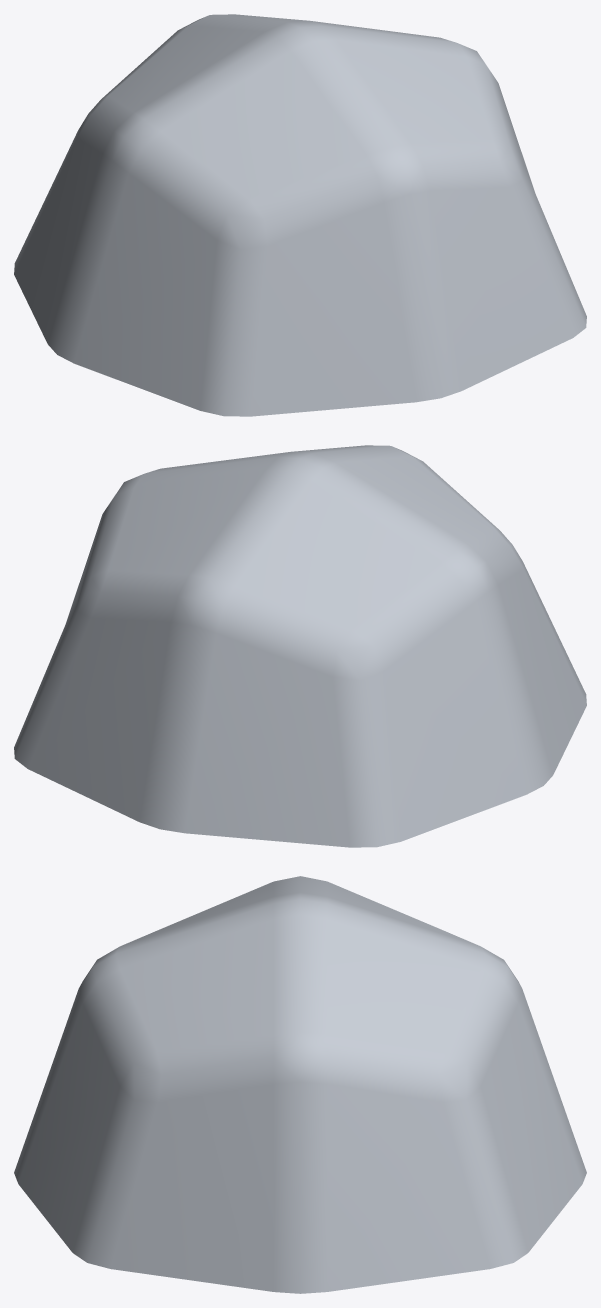
File: rock_2_geo.fbx
3 views of the same model, one above another, from view 1: azimuth 30°, elevation 25°; view 2: azimuth 150°, elevation 25°; view 3: azimuth 270°, elevation 25° (orthographic).
Parts seen in each view (by area): view 1: rock2; view 2: rock2; view 3: rock2.
Part boxes in pixels (<box>): rock2: <box>14,14,586,416</box>; rock2: <box>14,445,586,847</box>; rock2: <box>14,876,586,1293</box>.
Bounding box in the file's own units: 1.26 × 0.661 × 1.26.
